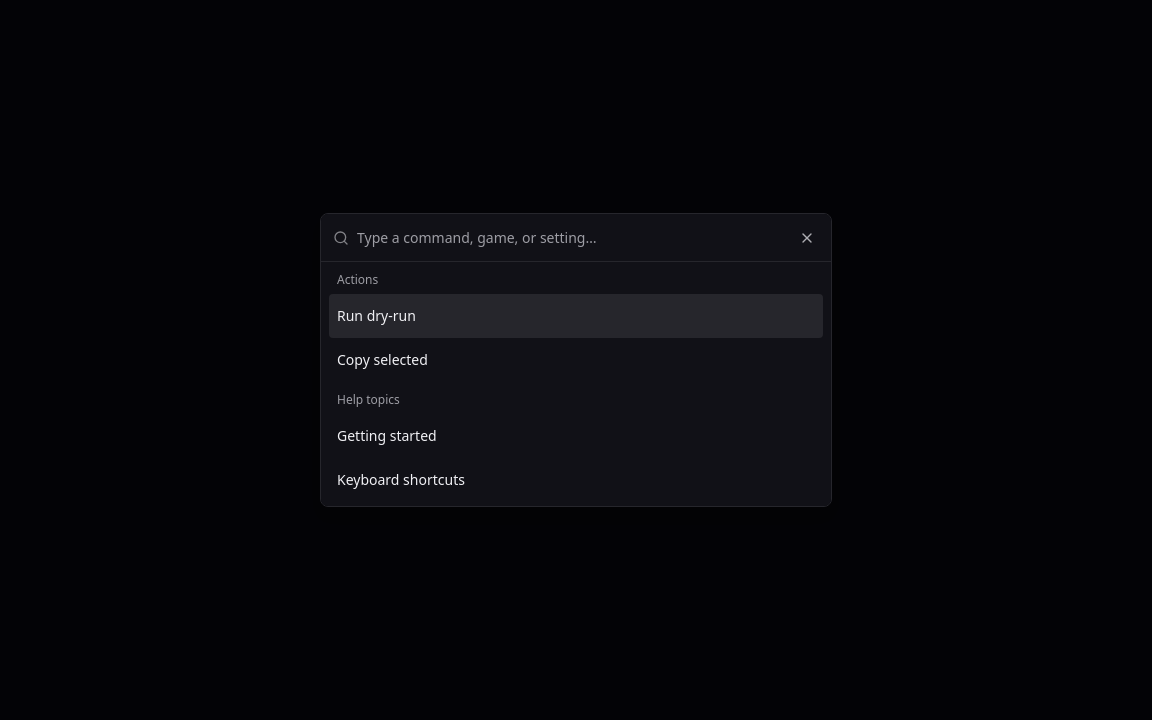
Test: CmdKPalette › filters across sections by typed prefix
Type "dry" into the dropdown at (588, 238), box [357,214,819,262]
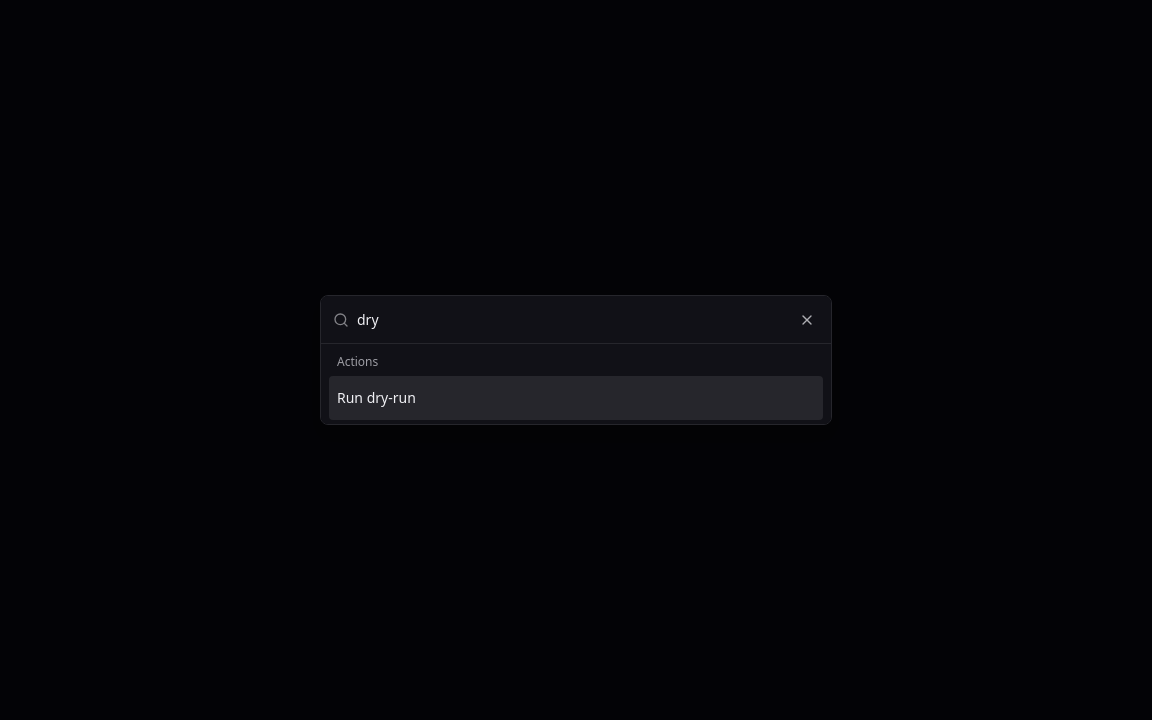
Expected: the text "Run dry-run" is shown, [337,388,416,408]
Expected: the option "Copy selected" is gone
Expected: the option "Getting started" is gone
